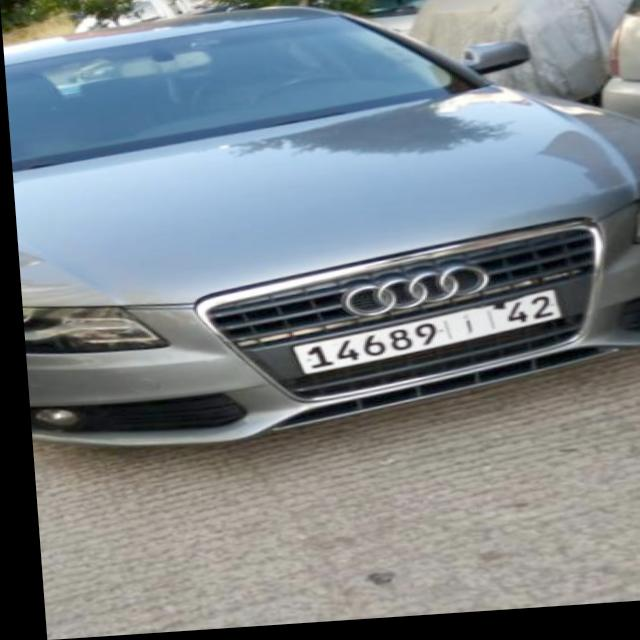License-Plate: (289, 298, 556, 378)
